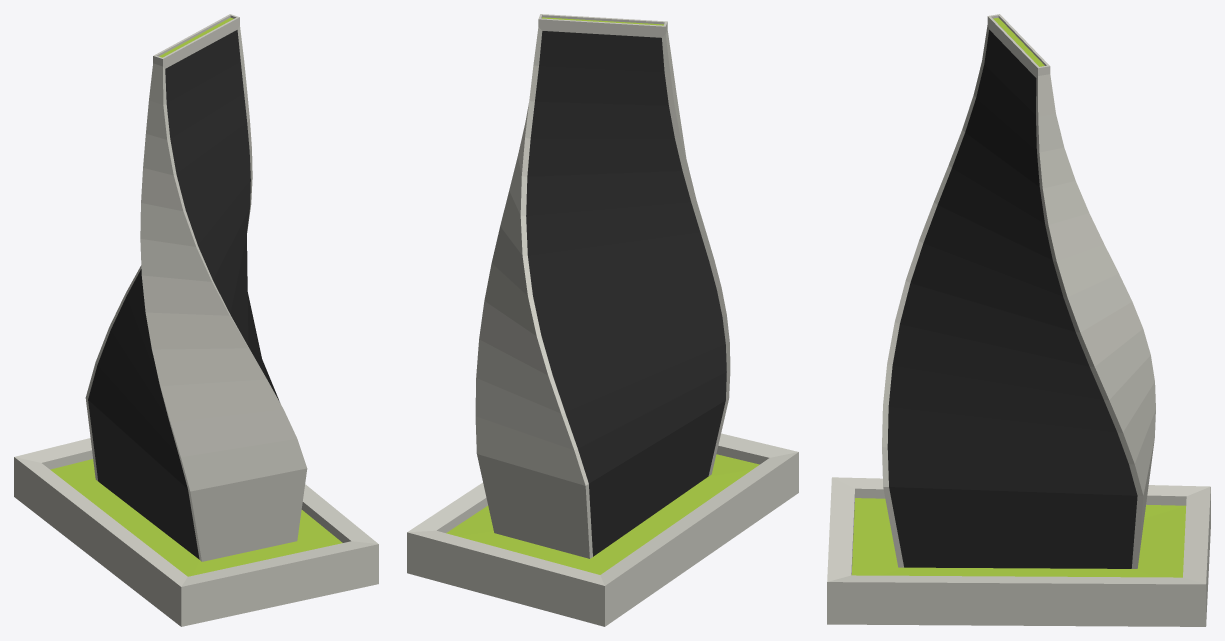
The model's file is Building7.fbx.
3 renders of one model, left to right at view 1: azimuth 30°, elevation 25°; view 2: azimuth 150°, elevation 25°; view 3: azimuth 270°, elevation 25°, orthographic. The views are drawn at different scales.
Visible parts, largest first — view 1: building_7; view 2: building_7; view 3: building_7.
Boxes of the visible parts, left/top/right/bottom form: building_7: left=14, top=14, right=378, bottom=626; building_7: left=407, top=14, right=798, bottom=626; building_7: left=827, top=14, right=1210, bottom=626.
Bounding box in the file's own units: 4570 × 10655 × 6917.
